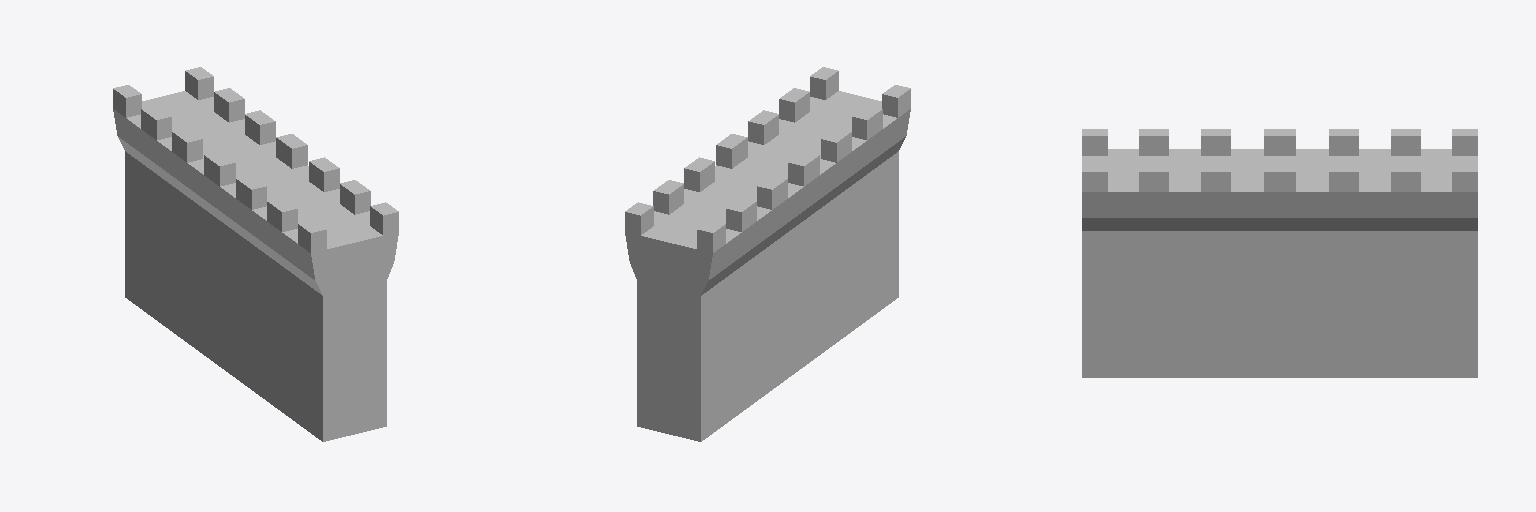
The model's file is castle_wall.obj.
The picture shows the model from 3 angles: view 1: azimuth 30°, elevation 25°; view 2: azimuth 150°, elevation 25°; view 3: azimuth 270°, elevation 25°; orthographic projection.
Parts seen in each view (by area): view 1: pCube1_Untitled.001; view 2: pCube1_Untitled.001; view 3: pCube1_Untitled.001.
Part boxes in pixels (bbox=[...]): pCube1_Untitled.001: bbox=[113, 67, 398, 441]; pCube1_Untitled.001: bbox=[625, 67, 910, 441]; pCube1_Untitled.001: bbox=[1082, 129, 1477, 377].
Size of the model in its own units: 0.3437 by 0.7884 by 1.34.